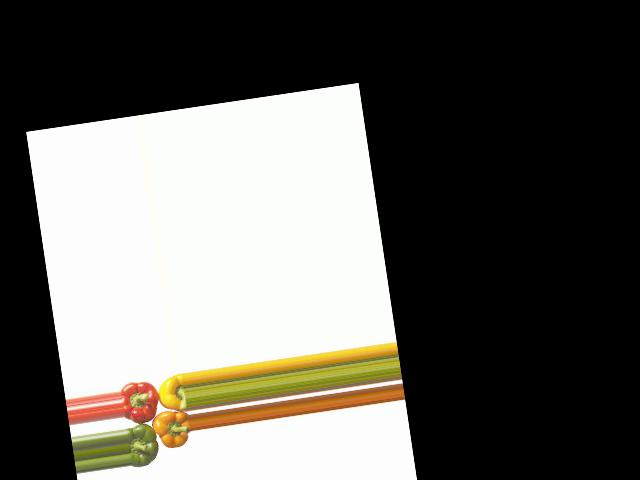bell_pepper: (153, 372, 188, 417)
